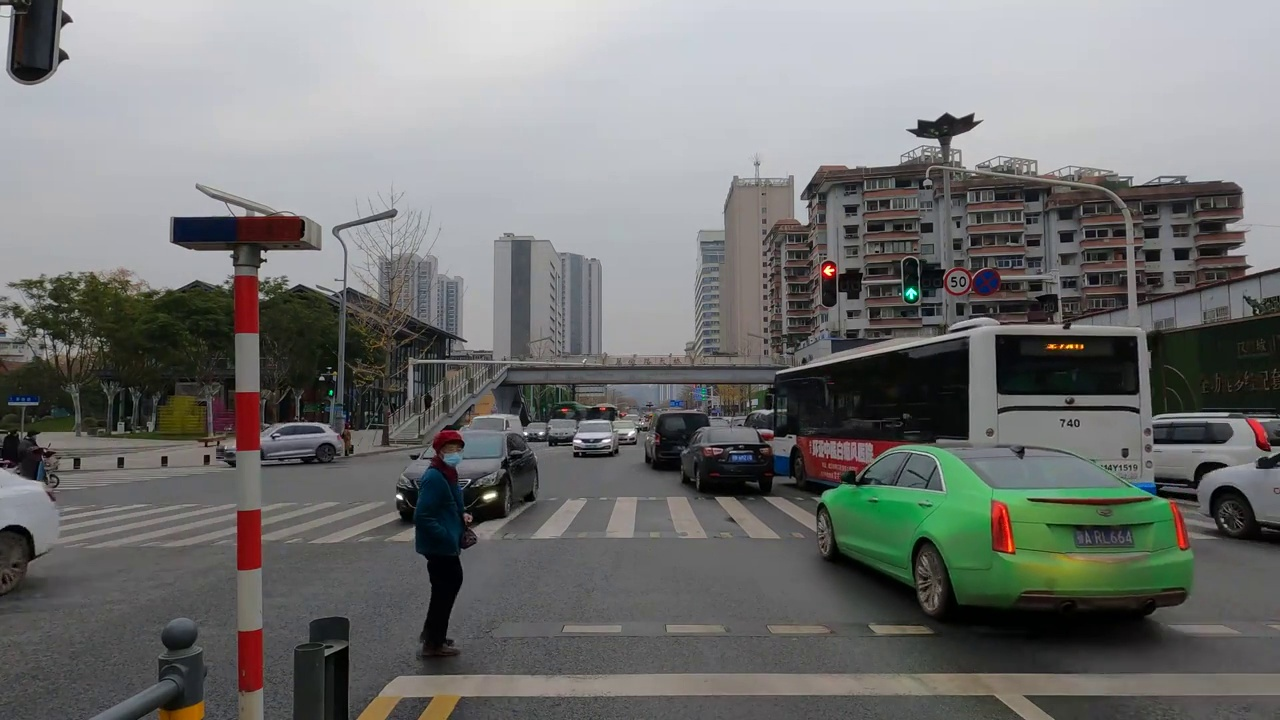lane: (364, 664, 1280, 720)
